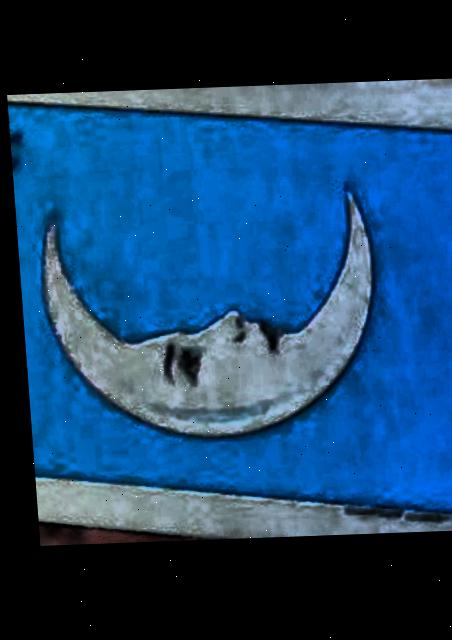La Luna: (6, 106, 452, 516)
